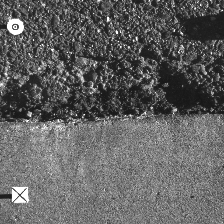circle: (6, 18, 24, 35)
crack: (1, 96, 223, 123)
square: (11, 187, 28, 203)
